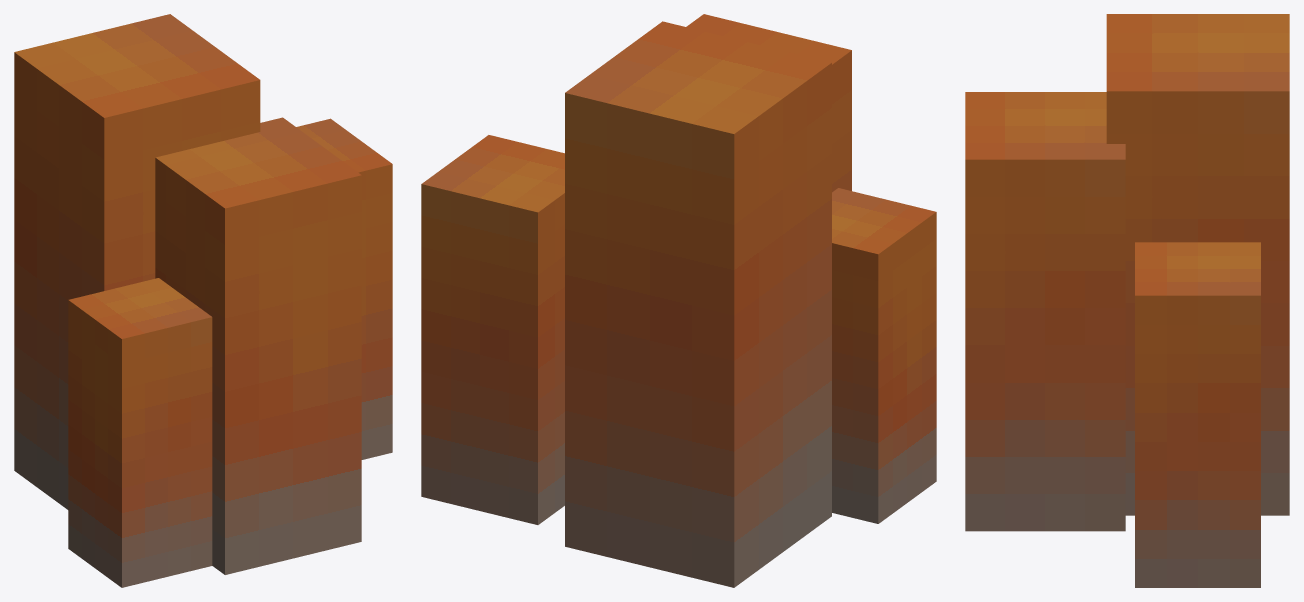
File: scheelite_crystal_four.obj
3 renders of one model, left to right at view 1: azimuth 30°, elevation 25°; view 2: azimuth 150°, elevation 25°; view 3: azimuth 270°, elevation 25°, orthographic. The views are drawn at different scales.
Parts seen in each view (by area): view 1: Crystal1_Cube, Crystal1.003_Cube.007, Crystal1.001_Cube.005, Crystal1.002_Cube.006; view 2: Crystal1.003_Cube.007, Crystal1.002_Cube.006, Crystal1.001_Cube.005, Crystal1_Cube; view 3: Crystal1_Cube, Crystal1.003_Cube.007, Crystal1.002_Cube.006.
Boxes of the visible parts, x1,y1,x2,y2 form: Crystal1_Cube: (155, 117, 361, 574); Crystal1.003_Cube.007: (14, 14, 260, 509); Crystal1.001_Cube.005: (68, 278, 212, 587); Crystal1.002_Cube.006: (296, 118, 392, 459); Crystal1.003_Cube.007: (565, 21, 831, 587); Crystal1.002_Cube.006: (421, 135, 564, 524); Crystal1.001_Cube.005: (832, 188, 936, 523); Crystal1_Cube: (686, 14, 851, 192); Crystal1_Cube: (965, 92, 1125, 531); Crystal1.003_Cube.007: (1106, 14, 1289, 515); Crystal1.002_Cube.006: (1135, 242, 1260, 587).
Bounding box in the file's own units: 0.4881 × 0.5709 × 0.3952.
